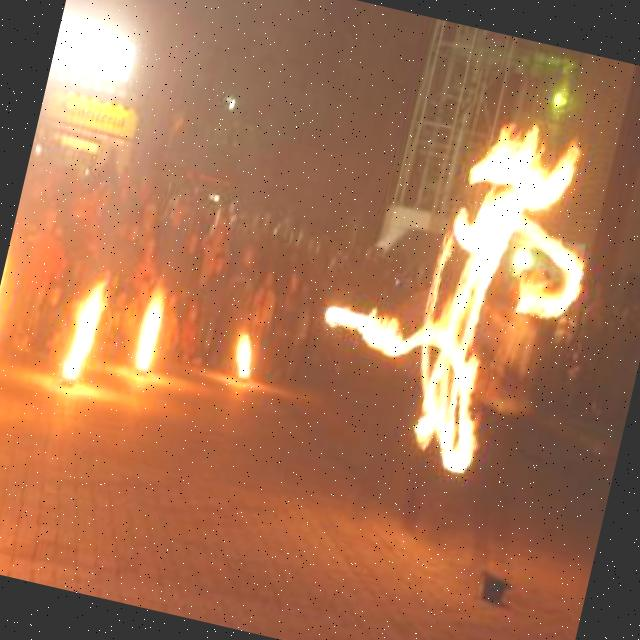fire: (287, 72, 623, 524), (58, 272, 119, 395), (120, 274, 184, 389), (223, 304, 273, 387)
